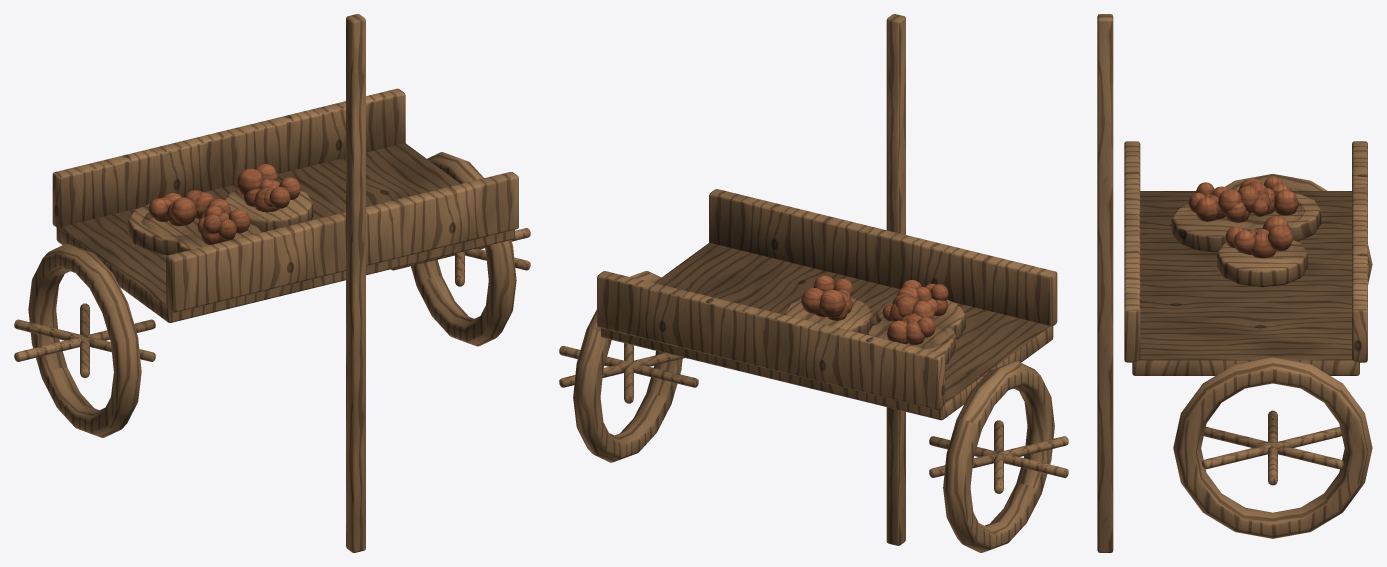
Rendered from barrow_fruit.glb.
The picture shows the model from 3 angles, left to right: view 1: azimuth 30°, elevation 25°; view 2: azimuth 150°, elevation 25°; view 3: azimuth 270°, elevation 25°; orthographic projection.
Parts seen in each view (by area): view 1: barrow_fruit; view 2: barrow_fruit; view 3: barrow_fruit.
Part boxes in pixels (x1,y1,x2,y2): barrow_fruit: (14, 14, 530, 552); barrow_fruit: (559, 14, 1068, 552); barrow_fruit: (1097, 14, 1372, 552).
Size of the model in its own units: 2.22 by 2.2 by 1.03.
Materials: 2 (2 with a texture image).
